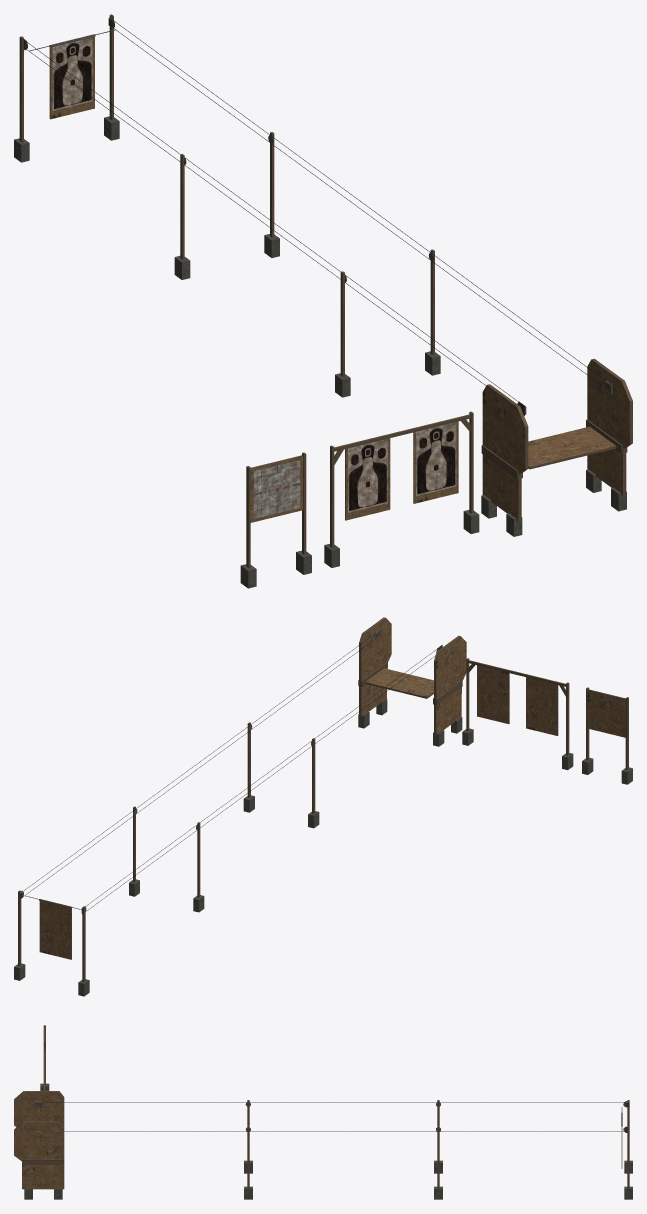
The model's file is Targets.fbx.
3 views of the same model, one above another, from view 1: azimuth 30°, elevation 25°; view 2: azimuth 150°, elevation 25°; view 3: azimuth 270°, elevation 25° (orthographic). The views are drawn at different scales.
Parts seen in each view (by area): view 1: Moving Target Rails, BoothTable, BoothWall, Double Target, Target(Full).001, Target(Full), Target(Full).002, Single Target, Target(Square), Moving Target; view 2: Double Target, Moving Target Rails, BoothTable, BoothWall, Single Target, Moving Target; view 3: BoothTable, Moving Target Rails, BoothWall.
Part boxes in pixels (<box>): Moving Target Rails: <box>14,14,612,415</box>; BoothTable: <box>528,358,632,511</box>; BoothWall: <box>481,384,528,536</box>; Double Target: <box>324,411,479,567</box>; Target(Full).001: <box>416,422,456,496</box>; Target(Full): <box>52,37,92,110</box>; Target(Full).002: <box>348,438,387,512</box>; Single Target: <box>240,452,311,588</box>; Target(Square): <box>253,460,300,518</box>; Moving Target: <box>29,29,115,119</box>; Double Target: <box>462,658,573,770</box>; Moving Target Rails: <box>14,629,442,996</box>; BoothTable: <box>358,617,433,728</box>; BoothWall: <box>433,635,466,746</box>; Single Target: <box>582,687,632,784</box>; Moving Target: <box>24,895,86,959</box>; BoothTable: <box>14,1121,64,1199</box>; Moving Target Rails: <box>34,1100,632,1199</box>; BoothWall: <box>14,1091,64,1126</box>.
Bounding box in the file's own units: 13131 × 4459 × 32569.
